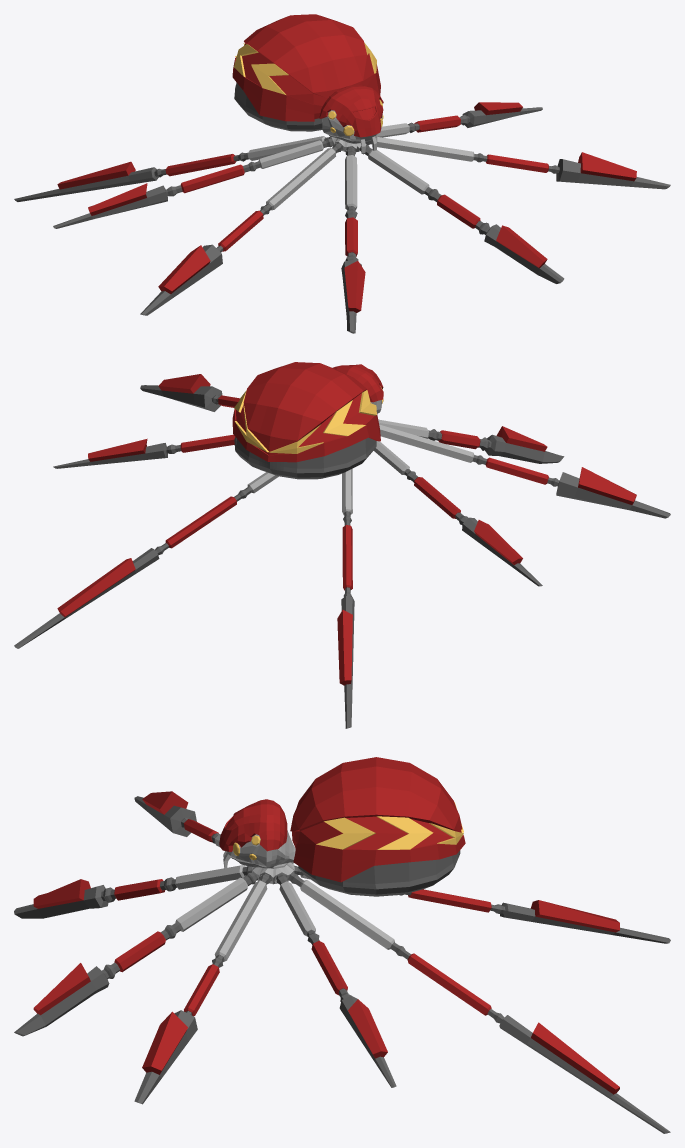
Rendered from spiderredtestmodel.fbx.
3 renders of one model, top to bottom at view 1: azimuth 30°, elevation 25°; view 2: azimuth 150°, elevation 25°; view 3: azimuth 270°, elevation 25°, orthographic. The views are drawn at different scales.
Parts seen in each view (by area): view 1: spider3; view 2: spider3; view 3: spider3.
Part boxes in pixels (box(x1,y1,x2,y2)): spider3: box(14, 14, 670, 333); spider3: box(14, 362, 670, 728); spider3: box(14, 757, 670, 1133).
Size of the model in its own units: 682 by 283 by 618.
